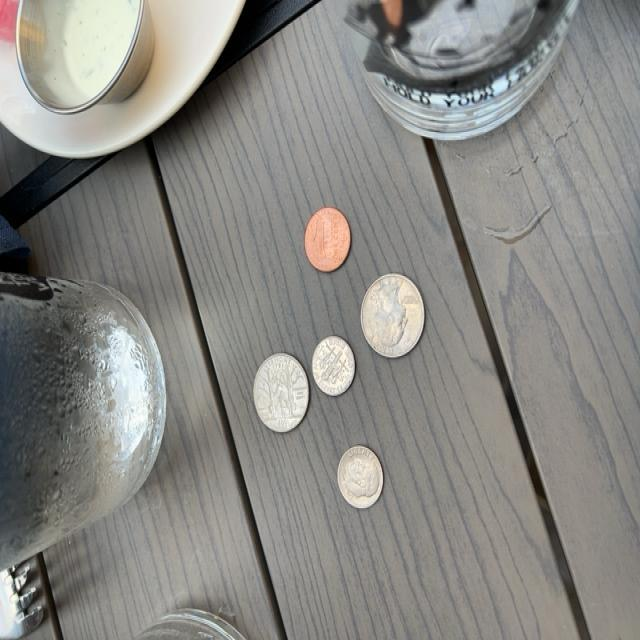Dime: (337, 445, 385, 510), (312, 336, 356, 396)
Penny: (304, 206, 352, 272)
Quarter: (360, 273, 426, 358), (253, 352, 310, 434)
